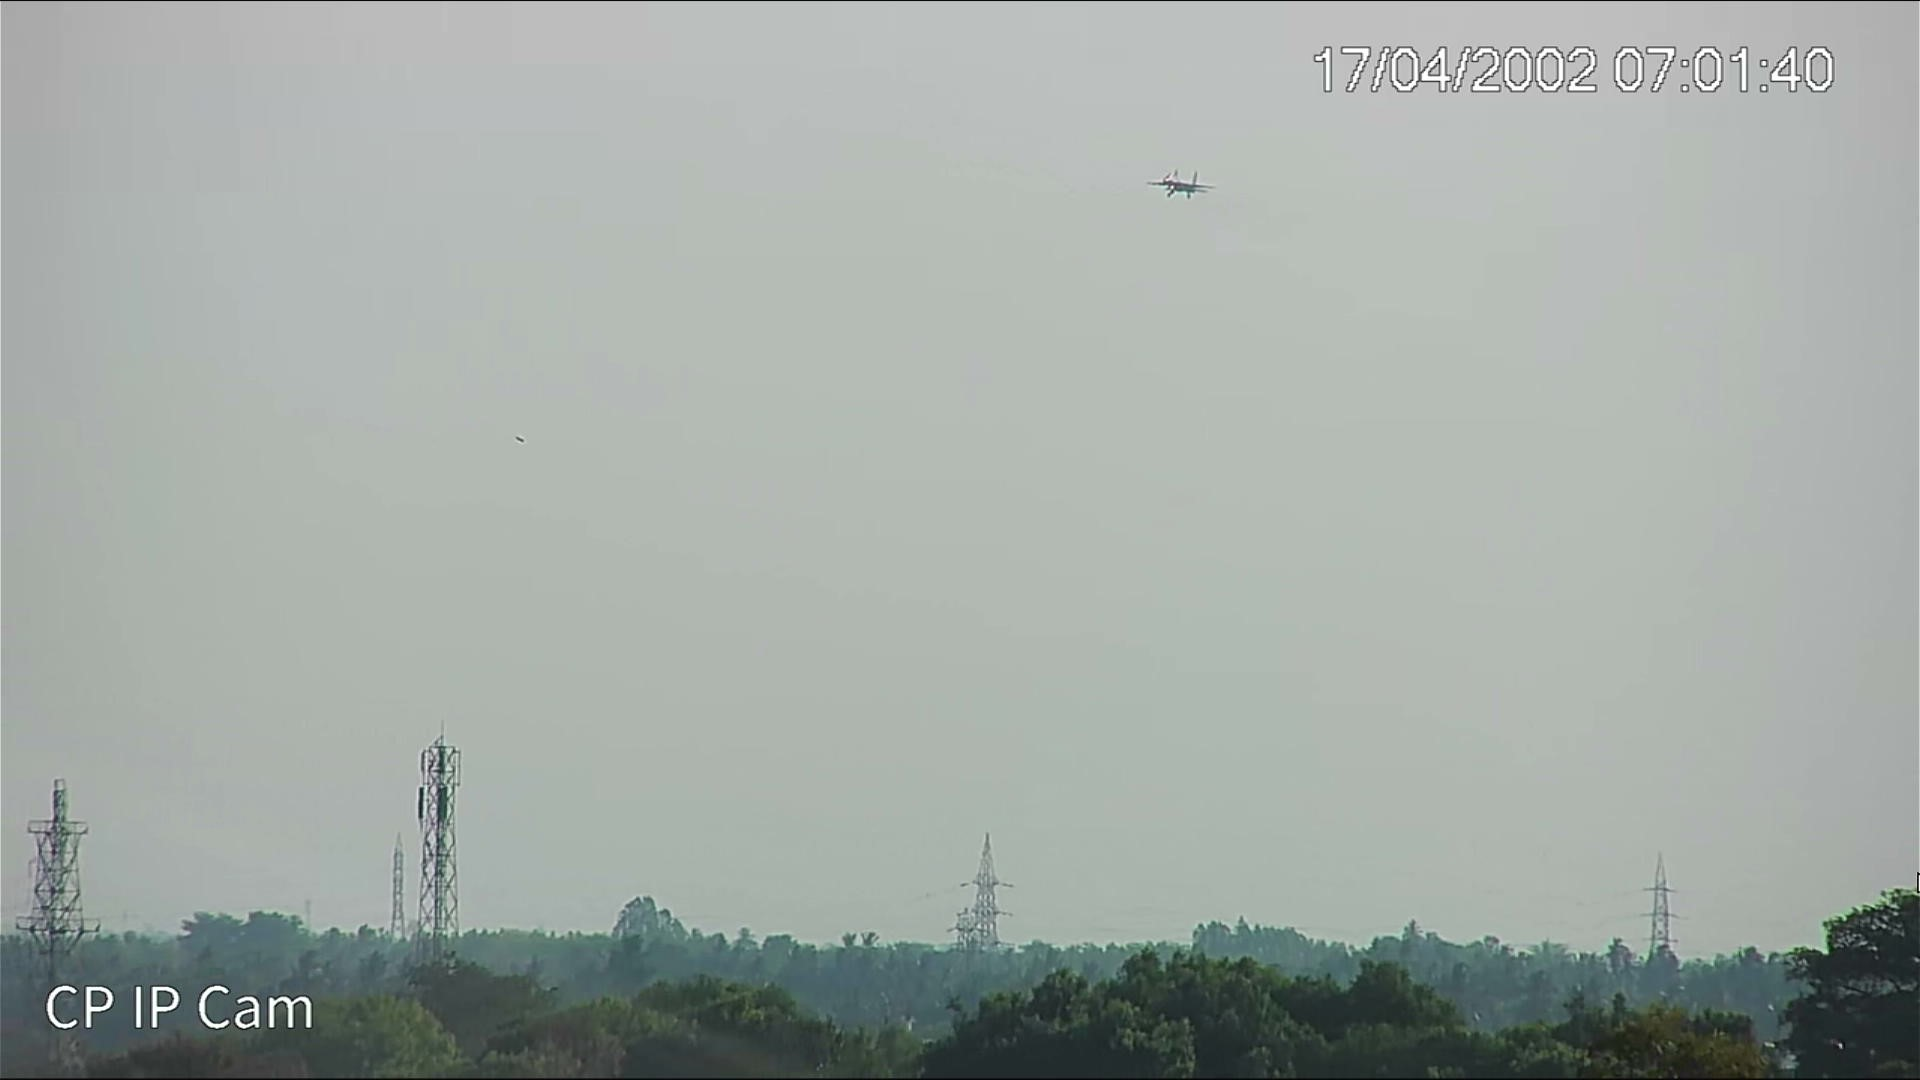SU_30: (1145, 167, 1215, 200)
